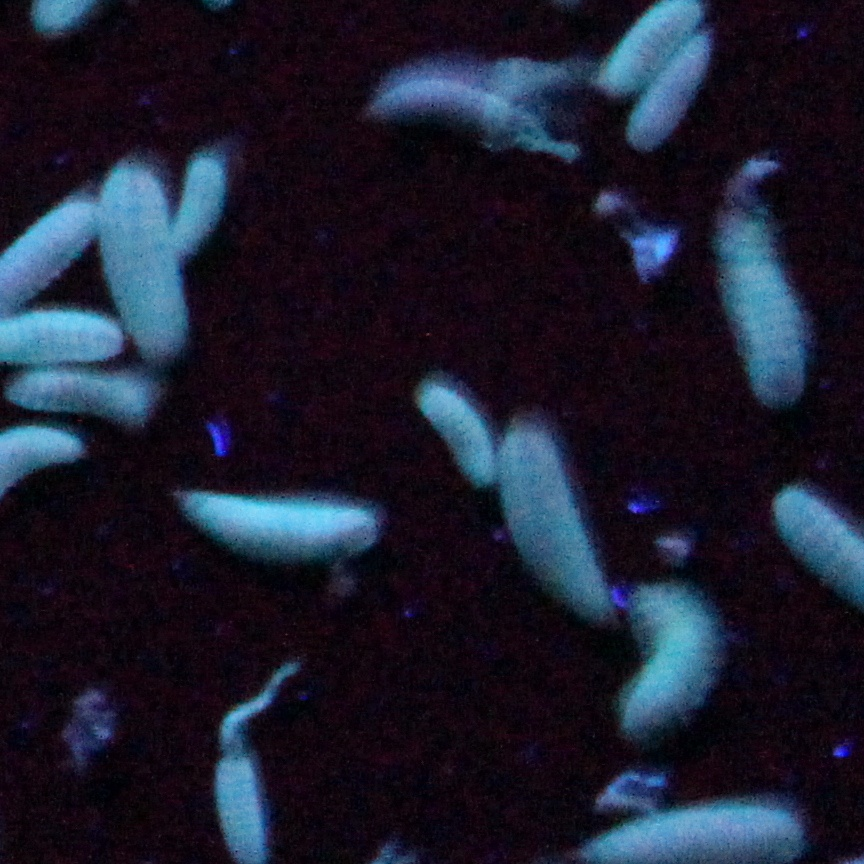larve: (719, 160, 803, 404), (501, 430, 606, 615), (368, 80, 580, 160), (100, 168, 186, 353), (621, 585, 713, 731), (181, 490, 378, 556), (627, 36, 711, 150), (419, 381, 494, 485), (8, 371, 151, 423), (167, 160, 223, 258)
